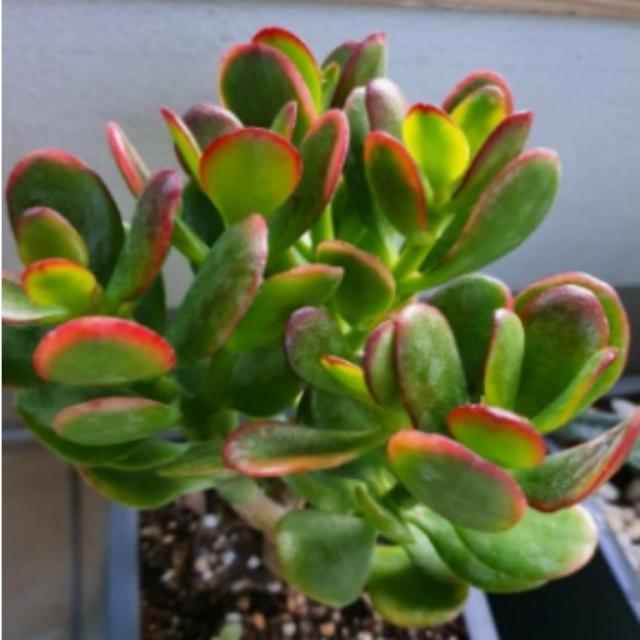Crassula: (222, 274, 638, 626), (163, 28, 559, 352), (4, 128, 299, 508)
